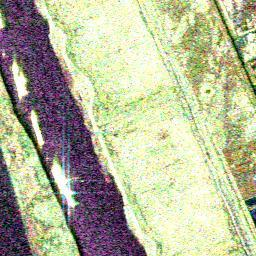Ship: (43, 157, 85, 211), (23, 108, 48, 149), (10, 56, 26, 96)
